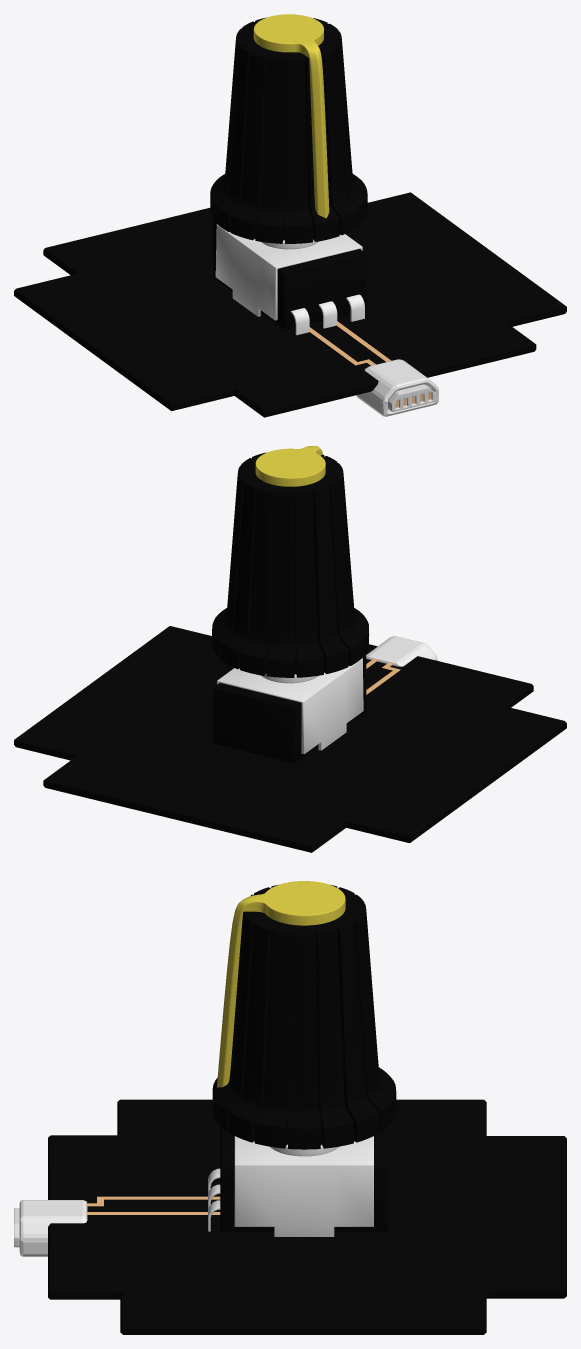
The model's file is anim.Rotary_Knob.glb.
3 renders of one model, top to bottom at view 1: azimuth 30°, elevation 25°; view 2: azimuth 150°, elevation 25°; view 3: azimuth 270°, elevation 25°, orthographic. The views are drawn at different scales.
Visible parts, largest first — view 1: Chipbaord, Rotary Knob.048, Rotary Knob.046, Knob, Rotary; view 2: Chipbaord, Rotary Knob.048, Rotary Knob.046, Knob, Rotary; view 3: Chipbaord, Rotary Knob.048, Rotary Knob.046, Knob, Rotary, Plane.002.
Boxes of the visible parts, x1,y1,x2,y2 form: Chipbaord: (14, 192, 566, 417); Rotary Knob.048: (210, 14, 367, 243); Rotary Knob.046: (215, 224, 362, 320); Knob: (213, 221, 366, 314); Rotary: (213, 263, 366, 335); Chipbaord: (14, 626, 566, 852); Rotary Knob.048: (212, 446, 369, 677); Rotary Knob.046: (217, 658, 363, 754); Knob: (213, 655, 366, 747); Rotary: (213, 696, 366, 763); Chipbaord: (14, 1099, 566, 1334); Rotary Knob.048: (212, 881, 396, 1149); Rotary Knob.046: (234, 1136, 373, 1236); Knob: (220, 1126, 388, 1213); Rotary: (208, 1168, 388, 1231); Plane.002: (86, 1196, 220, 1206).
Size of the model in its own units: 0.0385 by 0.0271 by 0.0395.
